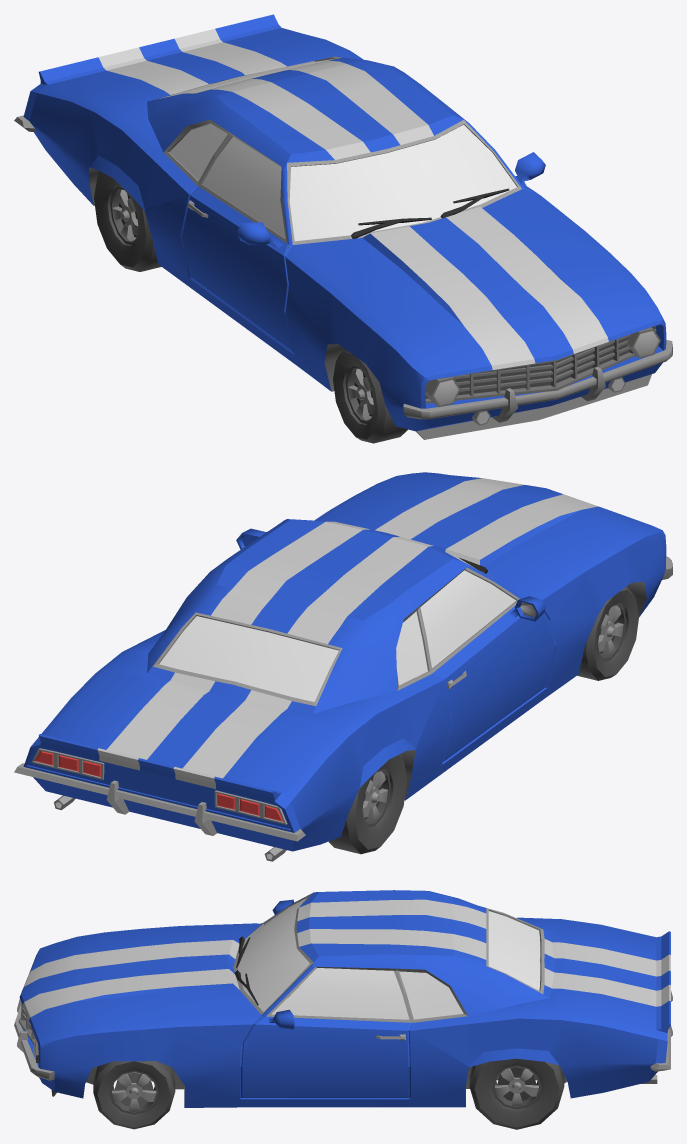
The model's file is Car.fbx.
3 views of the same model, one above another, from view 1: azimuth 30°, elevation 25°; view 2: azimuth 150°, elevation 25°; view 3: azimuth 270°, elevation 25° (orthographic). The views are drawn at different scales.
Visible parts, largest first — view 1: Car, Car_Glass, Car_Wheel_rr, Car_Wheel_fr; view 2: Car, Car_Glass, Car_Wheel_rr, Car_Wheel_fr; view 3: Car, Car_Glass, Car_Wheel_rl, Car_Wheel_fl.
Boxes of the visible parts, x1,y1,x2,y2 form: Car: (14,14,672,439); Car_Glass: (169,59,516,241); Car_Wheel_rr: (94,171,161,271); Car_Wheel_fr: (333,349,407,443); Car: (14,472,672,861); Car_Glass: (159,553,515,701); Car_Wheel_rr: (328,754,406,854); Car_Wheel_fr: (577,586,638,680); Car: (14,890,672,1107); Car_Glass: (237,897,540,1019); Car_Wheel_rl: (469,1058,564,1129); Car_Wheel_fl: (93,1061,175,1129).
Size of the model in its own units: 207 by 127 by 482.
